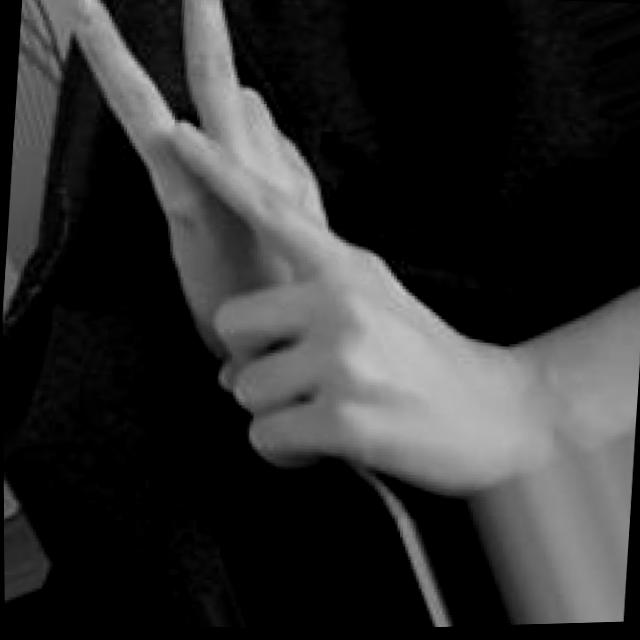Y: (22, 0, 496, 508)
